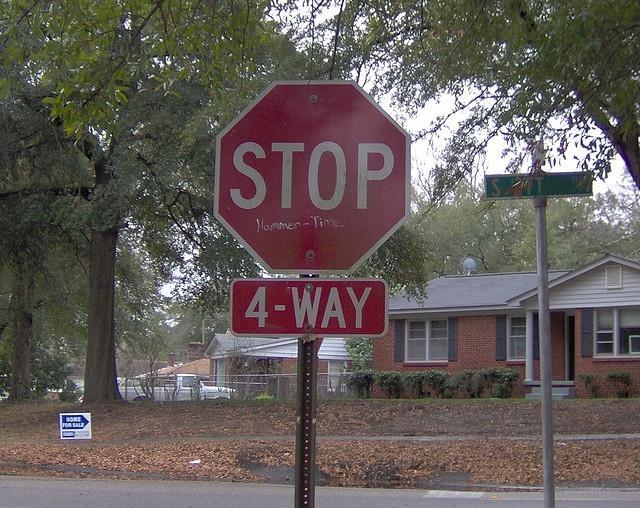truck: (117, 372, 237, 403)
